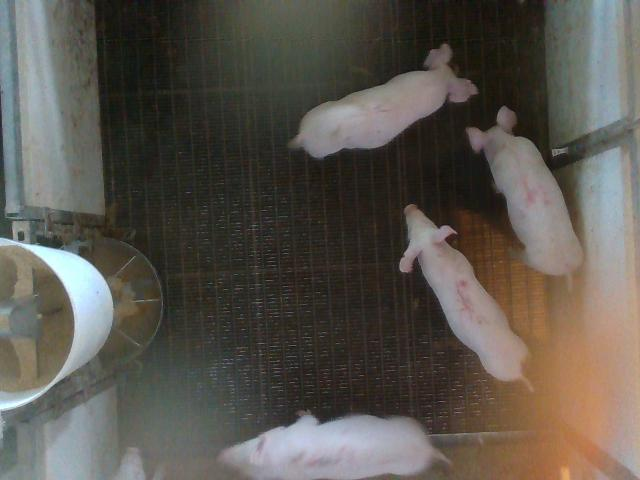pig-4: (466, 106, 584, 279)
pig-5: (400, 205, 529, 381)
